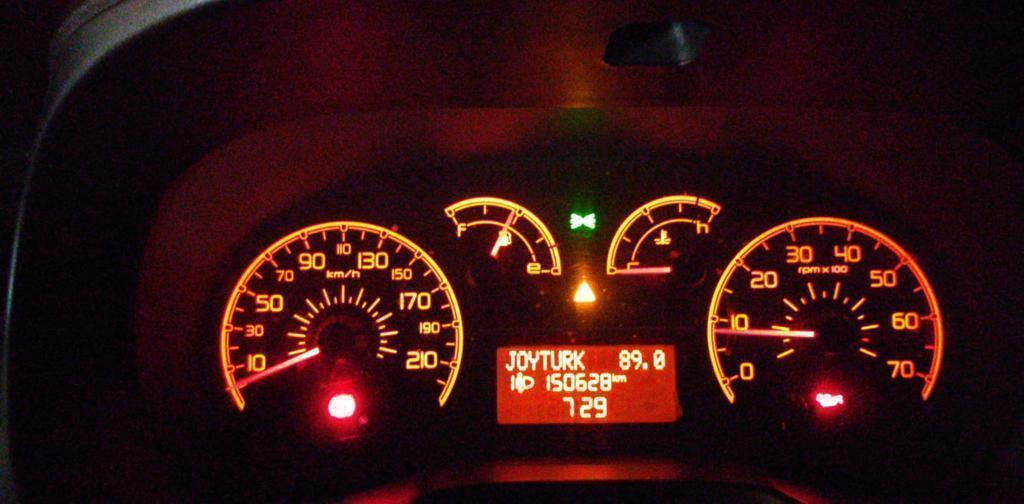,: (642, 361, 648, 371)
0: (652, 348, 666, 370), (562, 372, 575, 392)
1: (508, 374, 515, 392), (544, 373, 550, 391)
2: (578, 395, 593, 418), (587, 371, 599, 392)
5: (550, 372, 562, 392)
6: (575, 372, 587, 392)
7: (561, 395, 576, 418)
8: (617, 348, 631, 370), (600, 372, 611, 392)
9: (593, 395, 608, 419), (631, 348, 642, 371)
X: (504, 348, 516, 371), (527, 348, 539, 371), (573, 348, 585, 371), (539, 348, 550, 372), (550, 348, 561, 371), (562, 348, 573, 371), (516, 349, 527, 371), (618, 373, 626, 383), (612, 371, 618, 383)
odometer: (492, 340, 682, 428)
